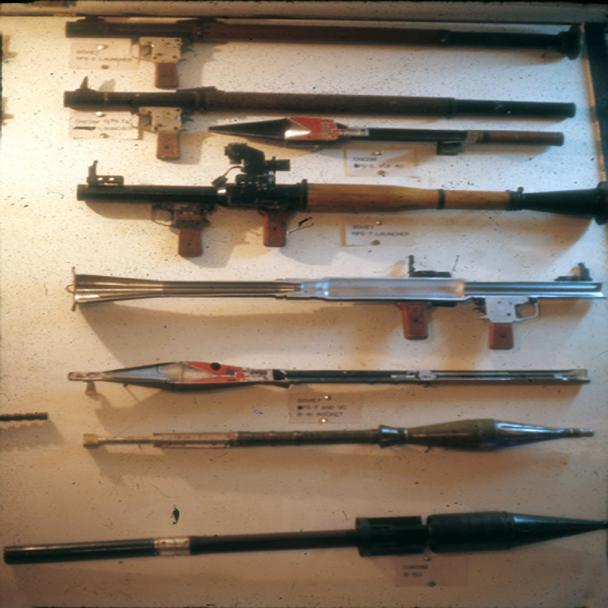Gun: (52, 257, 608, 349), (64, 158, 607, 243), (37, 74, 592, 152), (55, 10, 594, 82), (13, 397, 608, 461), (37, 346, 607, 410)
